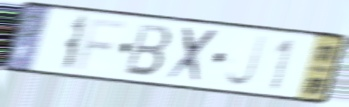1: (62, 12, 92, 74), (267, 37, 297, 92)
B: (122, 21, 175, 79)
F: (74, 17, 128, 73)
J: (223, 33, 268, 90)
X: (163, 25, 222, 87)
